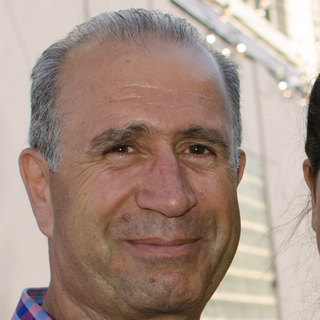eye: (98, 138, 146, 163), (178, 139, 222, 164)
